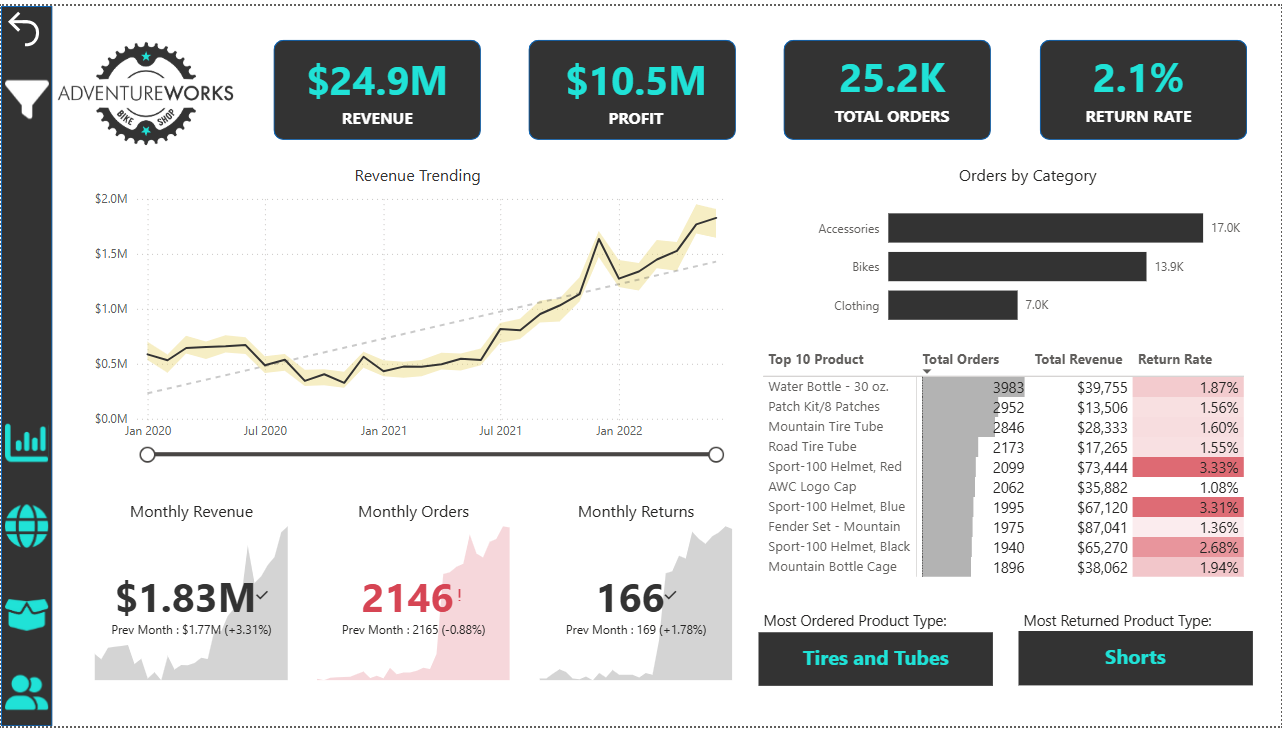

The page's visual inventory and layout, read from the dashboard file:
{"tool":"powerbi","page":{"name":"Exec Dash","canvas":[1280,720],"ordinal":0},"visuals":[{"type":"group","id":"g1","title":"Group 3","box":[0,0,51.4,720],"z":0,"group":"g8"},{"type":"group","id":"g2","title":"Group 1","box":[0,0,51.4,720],"z":0,"group":"g1"},{"type":"shape","box":[0,0,51.4,720.2],"z":0,"group":"g2"},{"type":"image","title":"Logo","box":[37.8,0,215.2,174.9],"z":0},{"type":"card","title":"REVENUE","fields":{"Values":["Measure Table.Total Sales"]},"box":[269,31.7,215.2,105.2],"z":0,"group":"g4"},{"type":"group","id":"g3","title":"Top Box","box":[272.7,34.2,973.4,100.3],"z":0,"group":"g6"},{"type":"shape","box":[272.7,34.2,207.5,100.3],"z":0,"group":"g3"},{"type":"actionButton","box":[0,409.2,51.4,56.1],"z":0,"group":"g5"},{"type":"textbox","box":[1017.4,599.2,221.7,29.7],"z":0,"group":"g7"},{"type":"actionButton","box":[0,0,51.4,45.7],"z":1000,"group":"g8"},{"type":"group","id":"g4","title":"Group 1","box":[269,29.3,977,107.6],"z":1000,"group":"g6"},{"type":"card","fields":{"Values":["Measure Table.Total Profit"]},"box":[528.2,31.7,215.2,105.2],"z":1000,"group":"g4"},{"type":"shape","box":[528,34.2,207.5,100.3],"z":1000,"group":"g3"},{"type":"group","id":"g5","title":"Group 2","box":[0,409.2,51.4,307.1],"z":1000,"group":"g1"},{"type":"actionButton","box":[0,491.8,51.4,57.8],"z":1000,"group":"g5"},{"type":"kpi","title":"Monthly Revenue","fields":{"Indicator":["Measure Table.REVENUE"],"TrendLine":["Calendar Lookup.Date Hierarchy.Start of Month"],"Goal":["Measure Table.Previous Month Revenue"]},"box":[89.2,493.9,203.3,185.7],"z":1000},{"type":"card","fields":{"Values":["Min(Product Subcategories Lookup.SubcategoryName)"]},"box":[1017.4,625.1,234.1,54.3],"z":1000,"group":"g7"},{"type":"card","fields":{"Values":["Measure Table.Total Orders"]},"box":[783.8,29.3,215.2,105.2],"z":2000,"group":"g4"},{"type":"shape","box":[783.3,34.2,207.5,100.3],"z":2000,"group":"g3"},{"type":"kpi","title":"Monthly Orders","fields":{"Goal":["Measure Table.Previous Month Orders"],"Indicator":["Measure Table.Total Orders"],"TrendLine":["Calendar Lookup.Start of Month"]},"box":[311.8,493.9,202.6,185.7],"z":2000},{"type":"actionButton","box":[0,580.9,51.4,57.8],"z":2000,"group":"g5"},{"type":"card","fields":{"Values":["Measure Table.Return Rate"]},"box":[1030.8,29.3,215.2,105.2],"z":3000,"group":"g4"},{"type":"shape","box":[1038.5,34.2,207.5,100.3],"z":3000,"group":"g3"},{"type":"card","fields":{"Values":["Min(Product Subcategories Lookup.SubcategoryName)"]},"box":[756.9,626.1,234.8,53.8],"z":3000},{"type":"actionButton","box":[0,658.5,51.4,57.8],"z":3000,"group":"g5"},{"type":"kpi","title":"Monthly Returns","fields":{"TrendLine":["Calendar Lookup.Date Hierarchy.Start of Month"],"Indicator":["Measure Table.Total Returns"],"Goal":["Measure Table.Previous Month Returns"]},"box":[533.7,493.9,202.6,185.7],"z":4000},{"type":"textbox","box":[756.9,599.2,221.3,30.6],"z":5000},{"type":"lineChart","title":"Revenue Trending ","fields":{"Y":["Measure Table.REVENUE"],"Category":["Calendar Lookup.Date.Variation.Date Hierarchy.Year","Calendar Lookup.Date.Variation.Date Hierarchy.Quarter","Calendar Lookup.Date.Variation.Date Hierarchy.Month","Calendar Lookup.Date.Variation.Date Hierarchy.Day"]},"box":[88.6,157.1,655.7,301.4],"z":6000},{"type":"group","id":"g6","title":"KPI","box":[269,29.3,977,107.6],"z":7000},{"type":"barChart","title":"Orders by Category","fields":{"Category":["Product Categories Lookup.CategoryName"],"Y":["Measure Table.Total Orders"]},"box":[807.1,157.1,438.6,178.6],"z":8000},{"type":"pivotTable","fields":{"Values":["Measure Table.Total Orders","Measure Table.REVENUE","Measure Table.Return Rate"],"Rows":["Product Lookup.ProductName"]},"box":[757.1,338.6,522.9,240],"z":9000},{"type":"group","id":"g7","title":"Group 4","box":[1017.4,599.2,234.8,80.7],"z":10000},{"type":"group","id":"g8","title":"Group 5","box":[0,0,51.4,720],"z":11000},{"type":"actionButton","box":[0,67.3,100.3,40.4],"z":12000},{"type":"actionButton","box":[0,67.8,51.9,51.9],"z":14000}]}

Visuals, with their boxes on the page's 1280x720 design canvas (x1, y1, x2, y2). These are canvas units, not pixel positions in the 1282x731 screenshot, which may show the page scaled, cropped or inside an application window:
"Group 3" group: select_region(0, 0, 51, 720)
"Group 1" group: select_region(0, 0, 51, 720)
shape: select_region(0, 0, 51, 720)
"Logo" image: select_region(38, 0, 253, 175)
"REVENUE" card: select_region(269, 32, 484, 137)
"Top Box" group: select_region(273, 34, 1246, 134)
shape: select_region(273, 34, 480, 134)
actionButton: select_region(0, 409, 51, 465)
textbox: select_region(1017, 599, 1239, 629)
actionButton: select_region(0, 0, 51, 46)
"Group 1" group: select_region(269, 29, 1246, 137)
card - Measure Table.Total Profit: select_region(528, 32, 743, 137)
shape: select_region(528, 34, 736, 134)
"Group 2" group: select_region(0, 409, 51, 716)
actionButton: select_region(0, 492, 51, 550)
"Monthly Revenue" kpi: select_region(89, 494, 292, 680)
card - Min(Product Subcategories Lookup.SubcategoryName): select_region(1017, 625, 1252, 679)
card - Measure Table.Total Orders: select_region(784, 29, 999, 134)
shape: select_region(783, 34, 991, 134)
"Monthly Orders" kpi: select_region(312, 494, 514, 680)
actionButton: select_region(0, 581, 51, 639)
card - Measure Table.Return Rate: select_region(1031, 29, 1246, 134)
shape: select_region(1038, 34, 1246, 134)
card - Min(Product Subcategories Lookup.SubcategoryName): select_region(757, 626, 992, 680)
actionButton: select_region(0, 658, 51, 716)
"Monthly Returns" kpi: select_region(534, 494, 736, 680)
textbox: select_region(757, 599, 978, 630)
"Revenue Trending " lineChart: select_region(89, 157, 744, 458)
"KPI" group: select_region(269, 29, 1246, 137)
"Orders by Category" barChart: select_region(807, 157, 1246, 336)
pivotTable - Measure Table.Total Orders x Measure Table.REVENUE: select_region(757, 339, 1280, 579)
"Group 4" group: select_region(1017, 599, 1252, 680)
"Group 5" group: select_region(0, 0, 51, 720)
actionButton: select_region(0, 67, 100, 108)
actionButton: select_region(0, 68, 52, 120)
